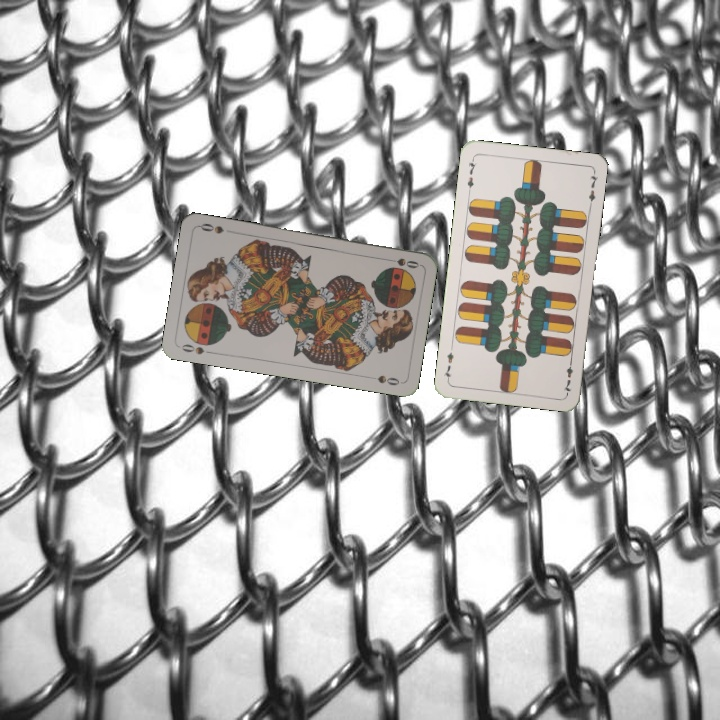E7: (559, 355, 575, 396), (463, 154, 478, 195)
SO: (381, 254, 422, 271), (177, 340, 216, 357)
